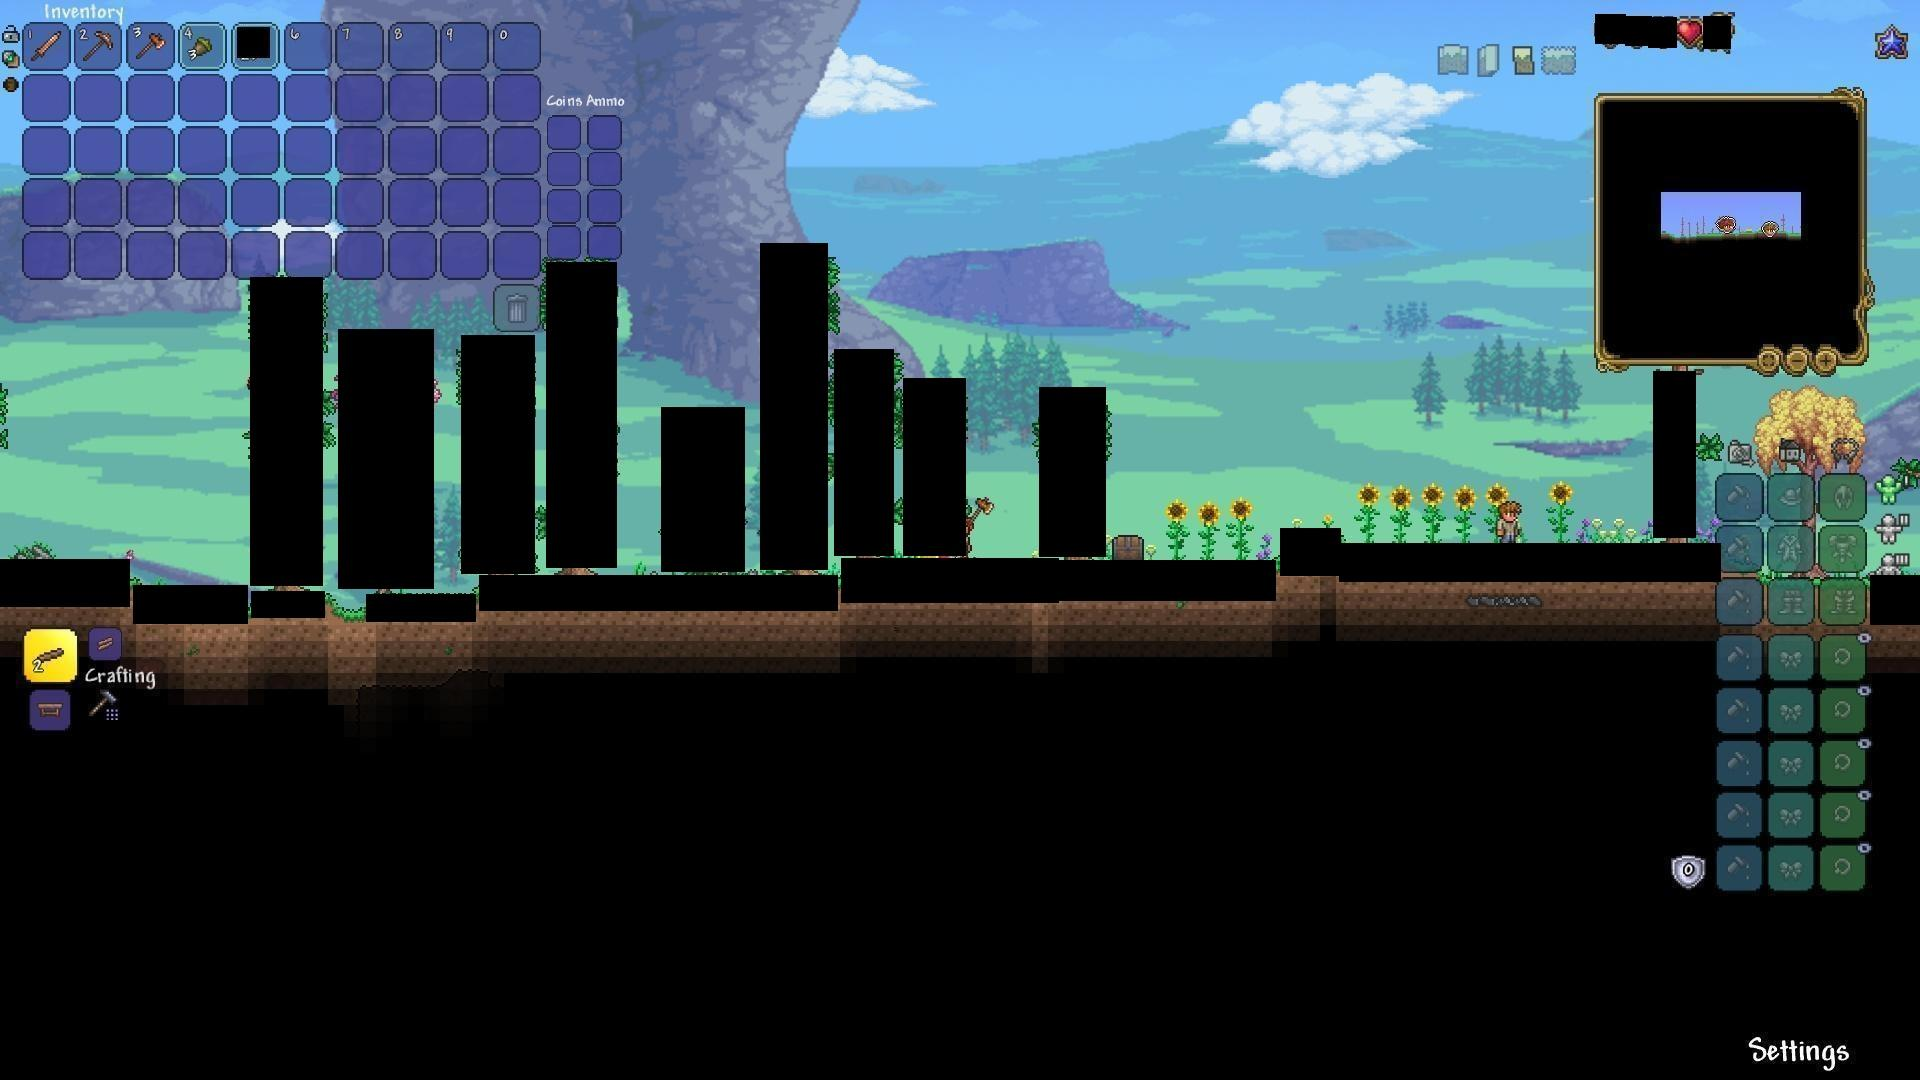dirt: (328, 601, 367, 636)
heart: (1675, 16, 1704, 47)
wood: (91, 632, 117, 655)
workbench: (32, 699, 65, 723)
